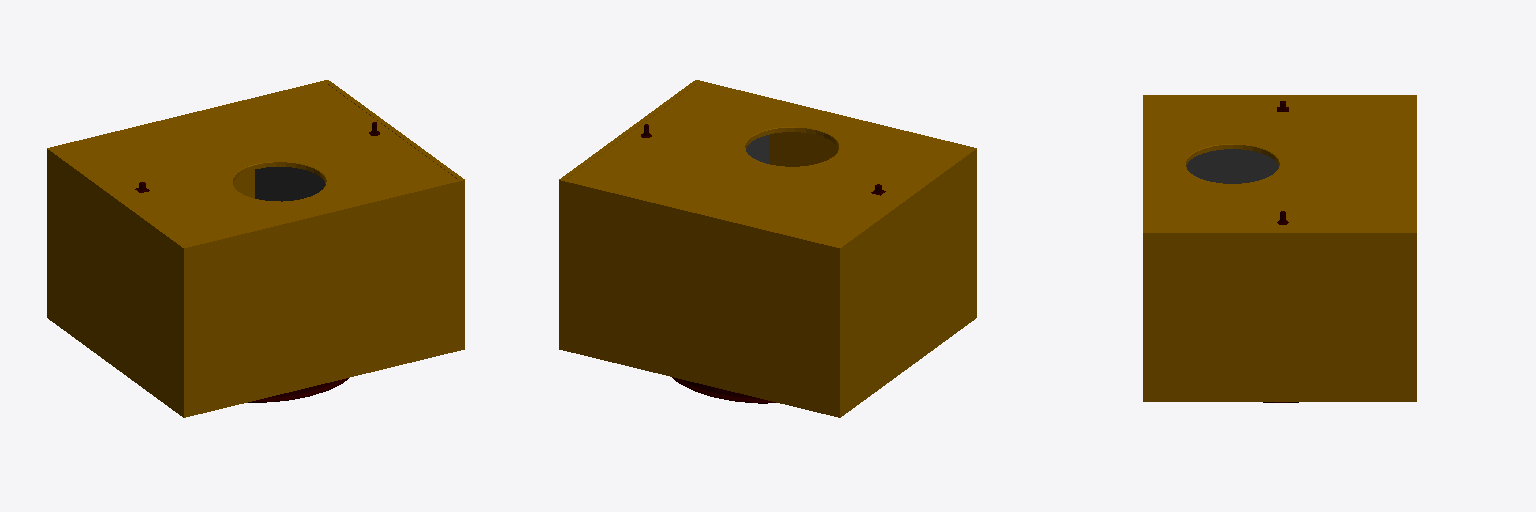
Rendered from DarkmatterPlatform.obj.
3 views of the same model, side by side, from view 1: azimuth 30°, elevation 25°; view 2: azimuth 150°, elevation 25°; view 3: azimuth 270°, elevation 25° (orthographic).
Visible parts, largest first — view 1: Box136, Box132, Box137, Box138, Box133, Box134, Box139; view 2: Box134, Box132, Box137, Box136, Box133, Box139; view 3: Box133, Box132, Box138, Box137, Box134, Box136.
Part boxes in pixels (x1,y1,x2,y2): Box136: (186, 179, 459, 416); Box132: (54, 83, 455, 244); Box137: (47, 147, 188, 417); Box138: (255, 167, 325, 201); Box133: (324, 80, 464, 350); Box134: (52, 81, 325, 198); Box139: (248, 378, 348, 402); Box134: (564, 179, 837, 416); Box132: (568, 83, 968, 244); Box137: (835, 147, 976, 417); Box136: (698, 81, 971, 166); Box133: (559, 80, 699, 350); Box139: (672, 377, 775, 403); Box133: (1143, 230, 1416, 401); Box132: (1148, 98, 1411, 229); Box138: (1186, 149, 1278, 183); Box137: (1143, 95, 1416, 97); Box134: (1412, 98, 1416, 229); Box136: (1143, 98, 1147, 229).
Size of the model in its own units: 125 by 87.39 by 106.